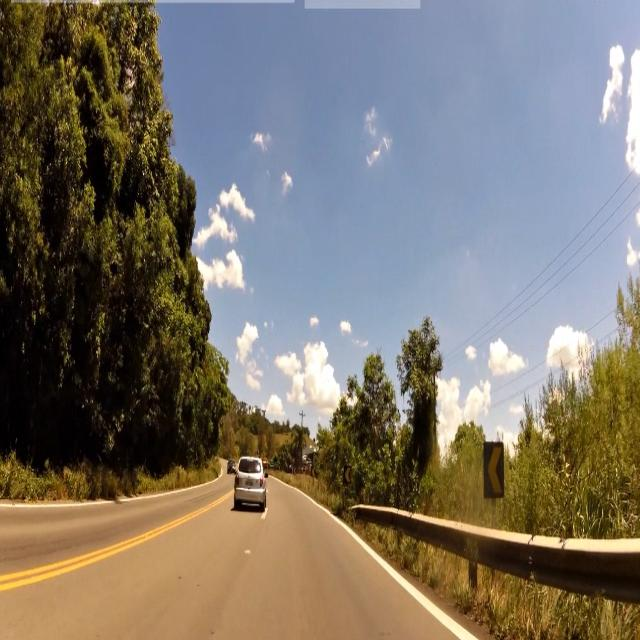Del: (485, 441, 505, 500), (342, 467, 352, 486)
